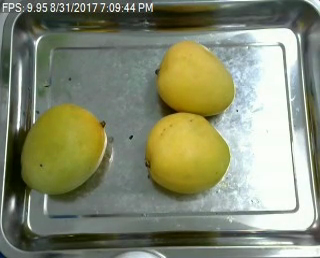Mango: (19, 103, 107, 193), (144, 112, 231, 193), (155, 42, 233, 114)
